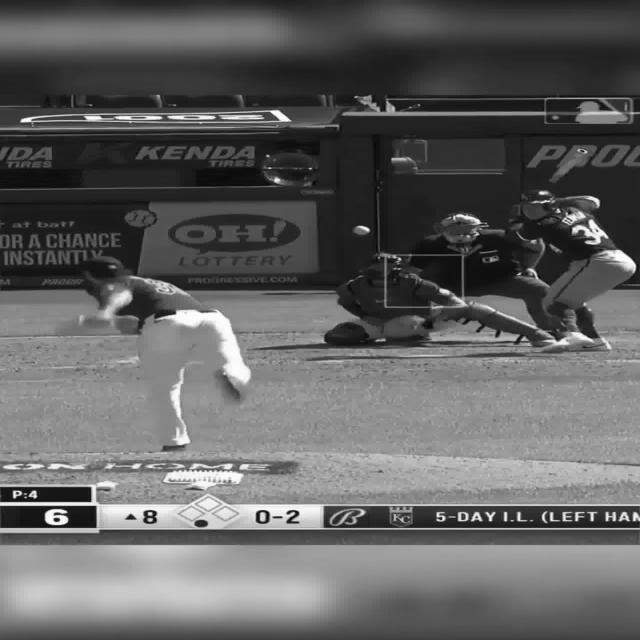baseball: (351, 225, 371, 236)
baseball_glove: (53, 315, 120, 336), (382, 315, 429, 340)
bat: (545, 148, 589, 191)
shoe: (538, 331, 593, 354), (213, 370, 249, 404), (578, 338, 611, 351), (160, 444, 187, 452)
